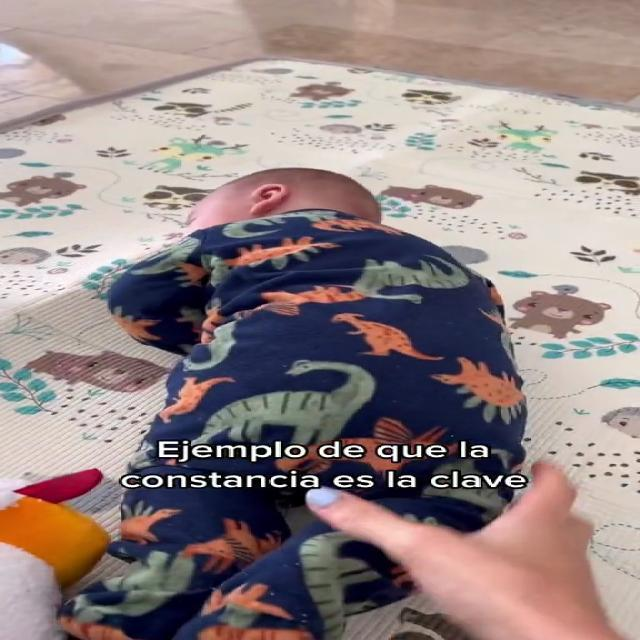baby: (78, 162, 556, 640)
